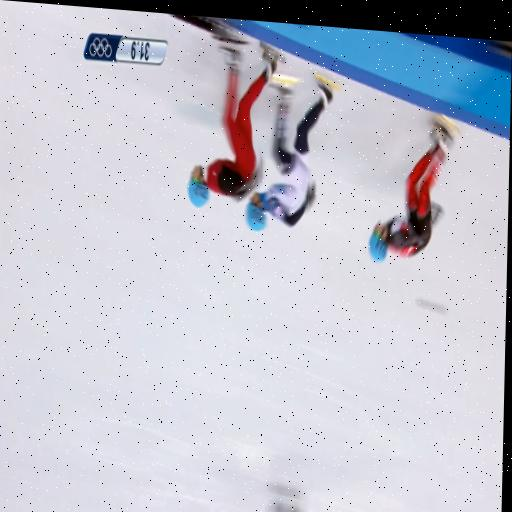Skater: (187, 45, 281, 206), (246, 77, 332, 230), (368, 120, 453, 260)
